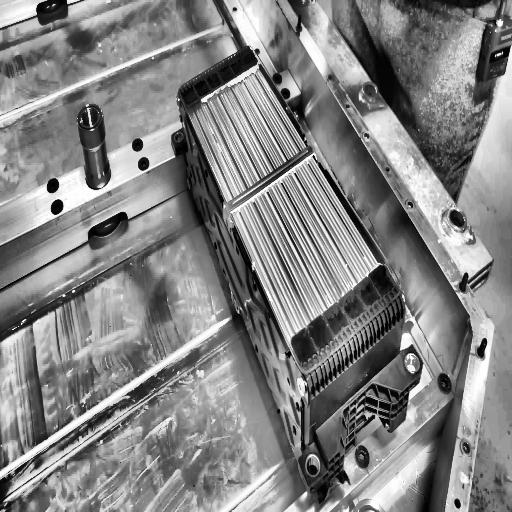battery_module: (179, 46, 407, 389)
